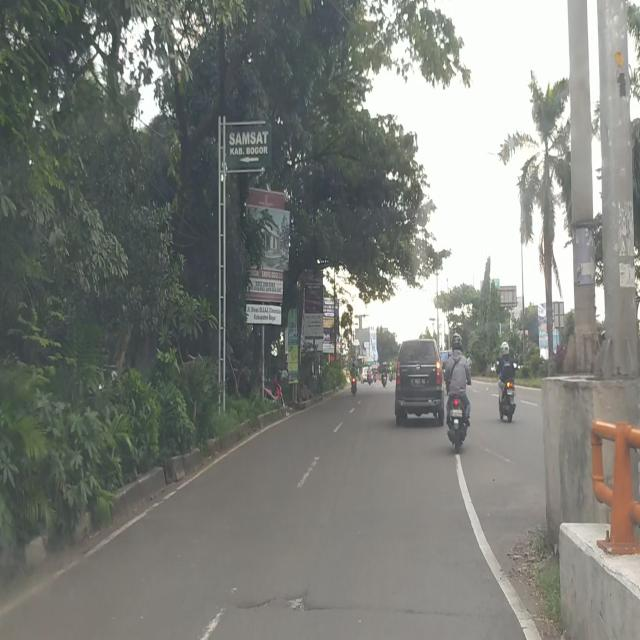Sewer Cover: (231, 593, 515, 622)
